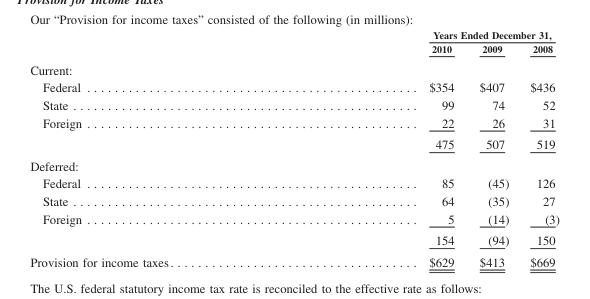table: (29, 28, 558, 268)
table column: (29, 28, 300, 268), (300, 28, 466, 268), (466, 28, 518, 268), (518, 28, 558, 268)
table column header: (29, 28, 558, 58)
table projected row header: (29, 58, 558, 78), (29, 154, 558, 174)
table row: (29, 133, 558, 154), (29, 229, 558, 250), (29, 58, 558, 78), (29, 113, 558, 133), (29, 154, 558, 174), (29, 209, 558, 229), (29, 95, 558, 113), (29, 191, 558, 209), (29, 250, 558, 268), (29, 41, 558, 58), (29, 78, 558, 95), (29, 174, 558, 191), (29, 28, 558, 41)
table spanning cell: (300, 28, 558, 41)
